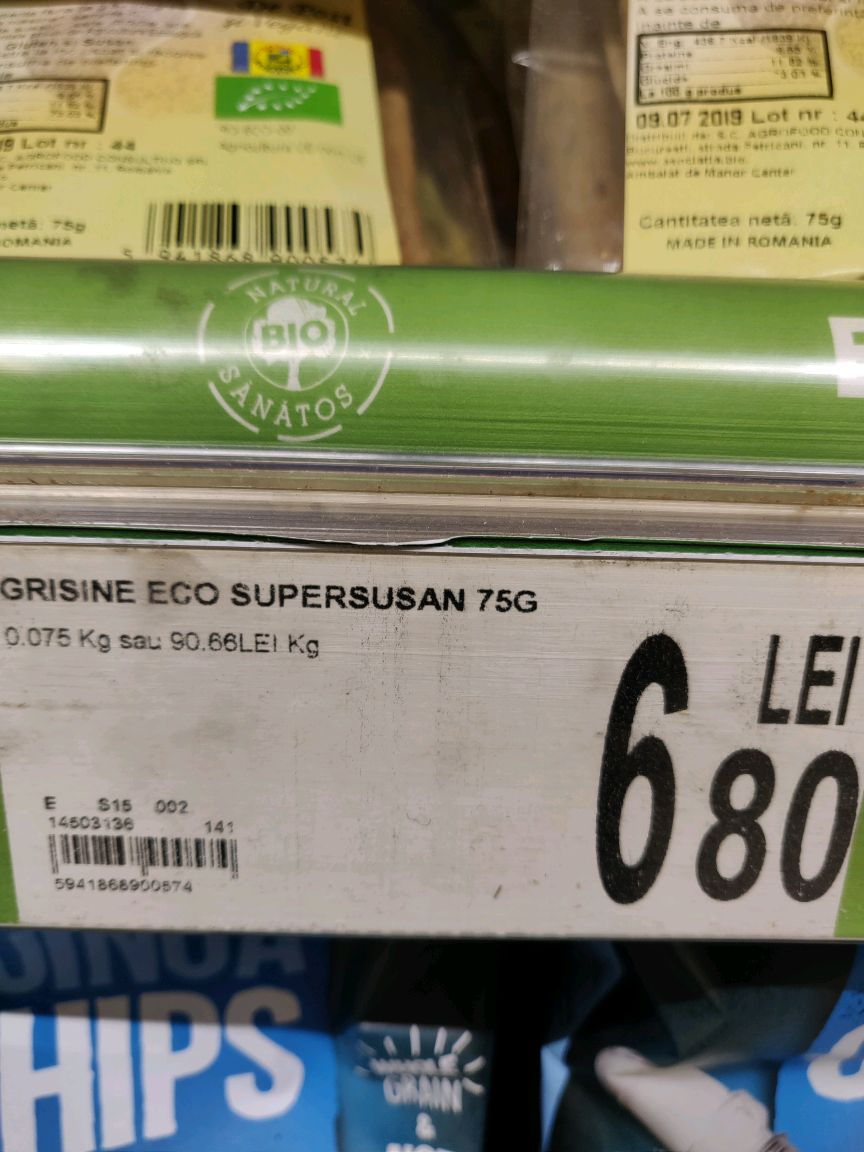price_bani: (691, 738, 864, 916)
price_lei: (553, 623, 699, 916)
price_tag: (3, 534, 864, 956)
product_id: (45, 872, 200, 903)
product_name: (1, 561, 544, 614)
